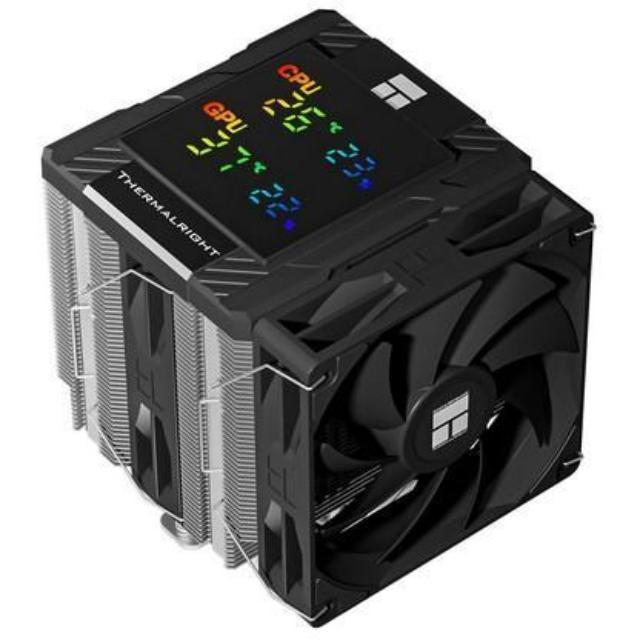CPU_Fan: (39, 7, 588, 618)
